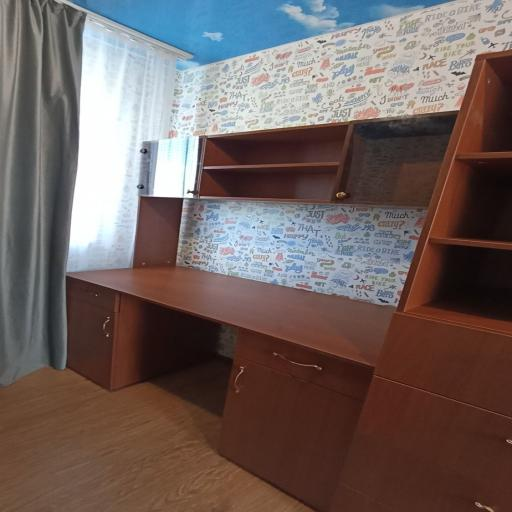road: (397, 52, 512, 336), (181, 116, 356, 204)
stroller: (56, 262, 398, 511)
